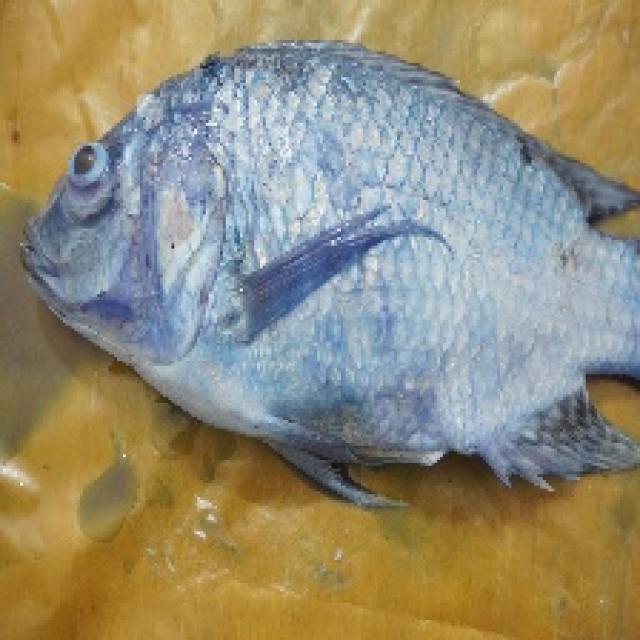Non-Fresh: (126, 55, 591, 450), (53, 137, 143, 206)
